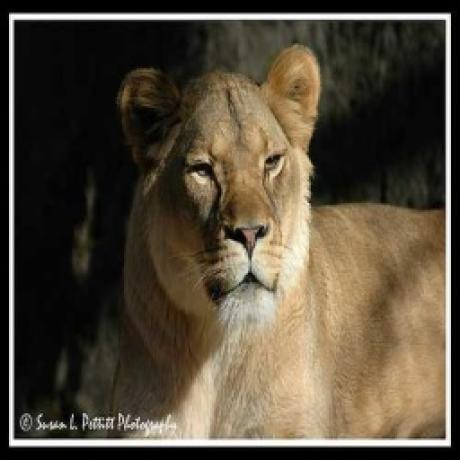Lion: (109, 42, 448, 441)
